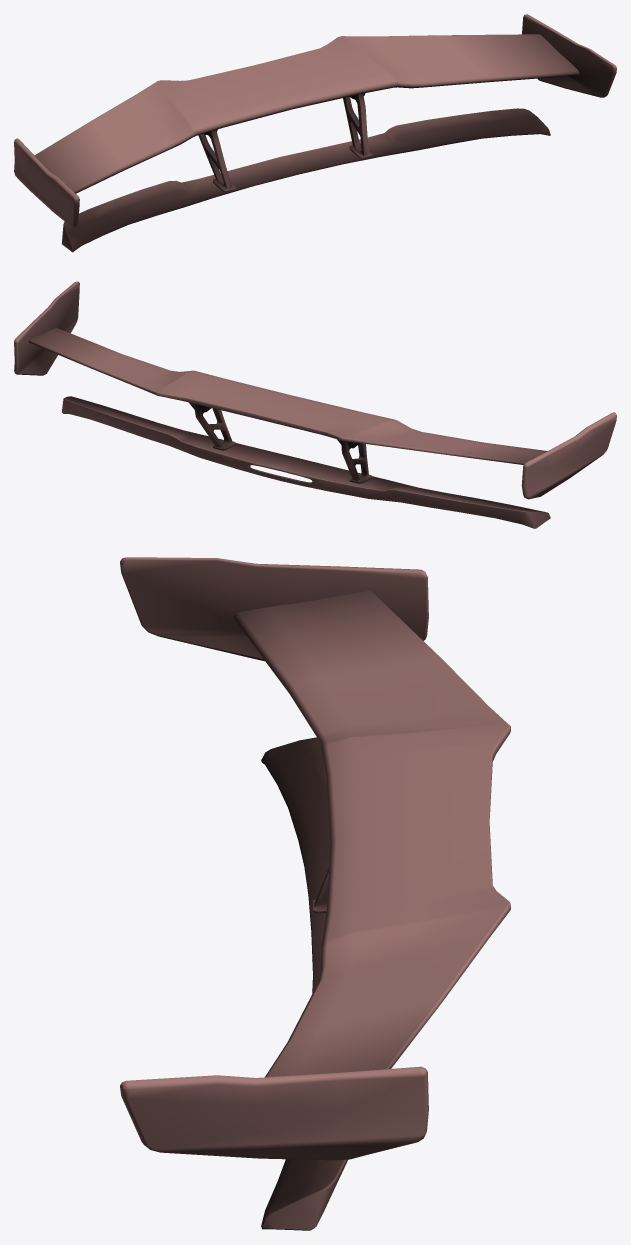
The model's file is Zr1_Spoiler_04_Trim.fbx.
3 renders of one model, top to bottom at view 1: azimuth 30°, elevation 25°; view 2: azimuth 150°, elevation 25°; view 3: azimuth 270°, elevation 25°, orthographic. The views are drawn at different scales.
Visible parts, largest first — view 1: Zr1_Spoiler_04_Trim; view 2: Zr1_Spoiler_04_Trim; view 3: Zr1_Spoiler_04_Trim.
Part boxes in pixels (x1=…): Zr1_Spoiler_04_Trim: x1=14, y1=14, x2=616, y2=252; Zr1_Spoiler_04_Trim: x1=14, y1=281, x2=616, y2=528; Zr1_Spoiler_04_Trim: x1=120, y1=557, x2=510, y2=1230.
Bounding box in the file's own units: 168 × 27.4 × 52.45.
